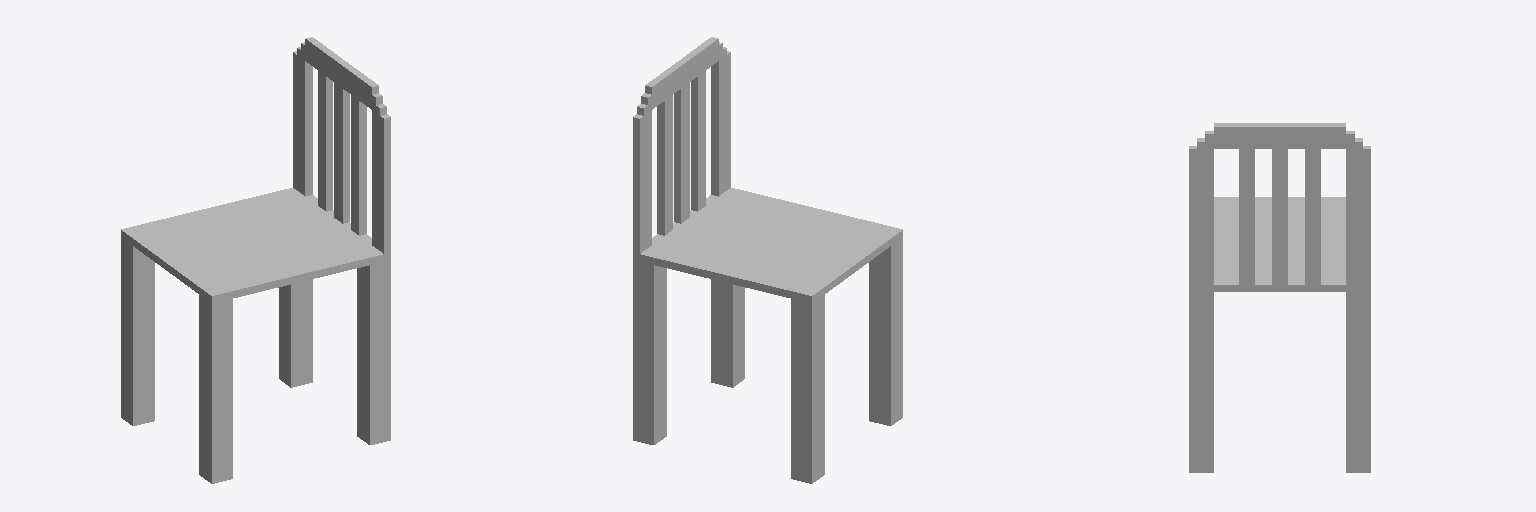
File: KitchenOPEN_Export-17.obj
3 renders of one model, left to right at view 1: azimuth 30°, elevation 25°; view 2: azimuth 150°, elevation 25°; view 3: azimuth 270°, elevation 25°, orthographic.
Visible parts, largest first — view 1: KitchenOPEN_Export-17; view 2: KitchenOPEN_Export-17; view 3: KitchenOPEN_Export-17.
Boxes of the visible parts, x1=… form: KitchenOPEN_Export-17: x1=121, y1=37, x2=390, y2=483; KitchenOPEN_Export-17: x1=633, y1=37, x2=902, y2=483; KitchenOPEN_Export-17: x1=1189, y1=123, x2=1370, y2=472.
Size of the model in its own units: 25 by 46 by 22.